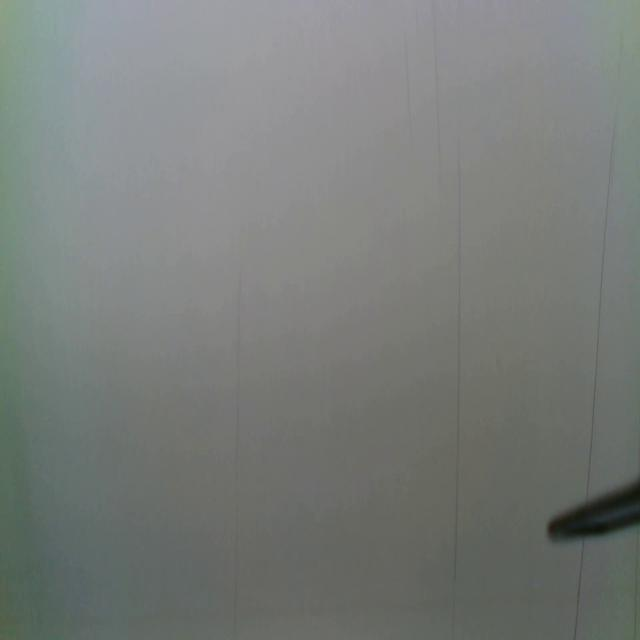crease: (586, 102, 618, 485), (450, 145, 464, 640), (230, 265, 243, 640), (430, 0, 443, 201), (401, 31, 414, 162), (571, 538, 587, 640), (630, 529, 640, 640)
